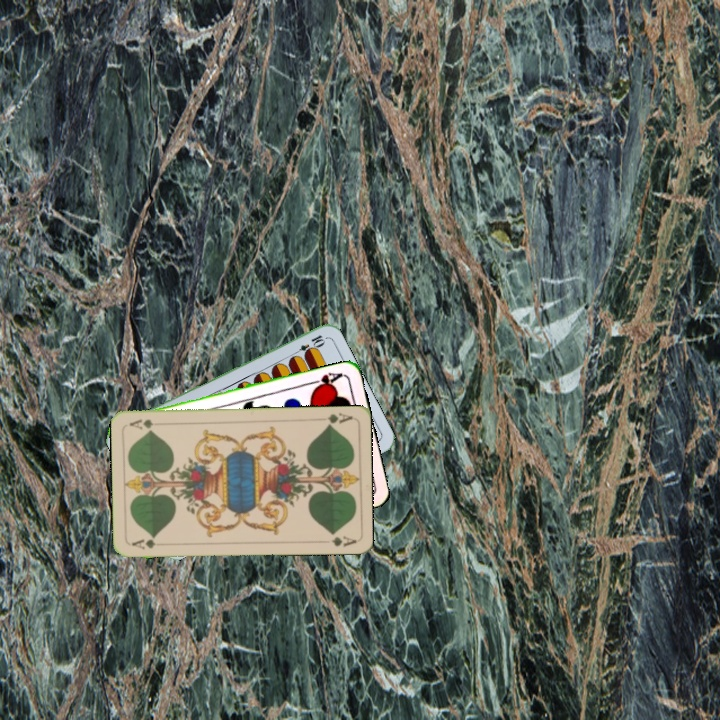E10: (289, 331, 327, 359)
GA: (314, 409, 354, 429), (127, 533, 158, 552)
HA: (305, 368, 345, 392)
